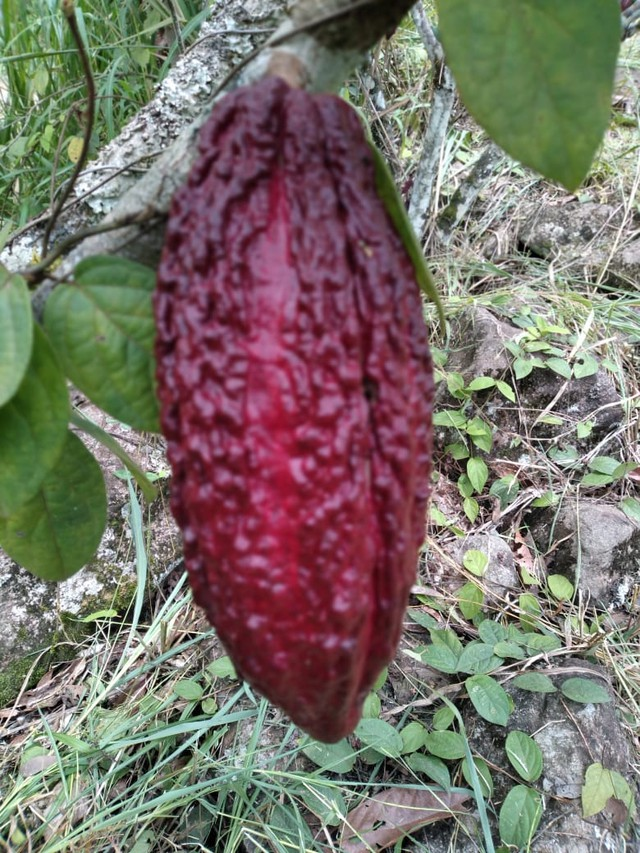Health: (140, 70, 436, 747)
